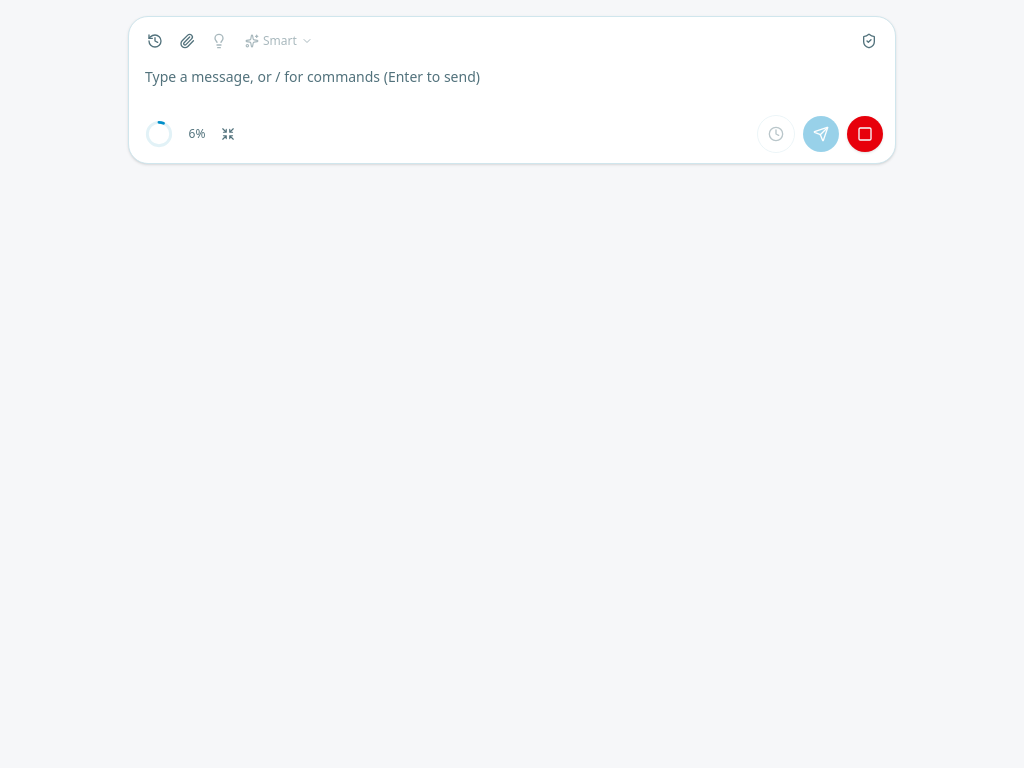
it: chat-level compact control (VCP-D3) › stays clickable while a run is active and surfaces the busy error
Click the button "6%" at (190, 134), box left=141, top=118, right=239, bottom=150
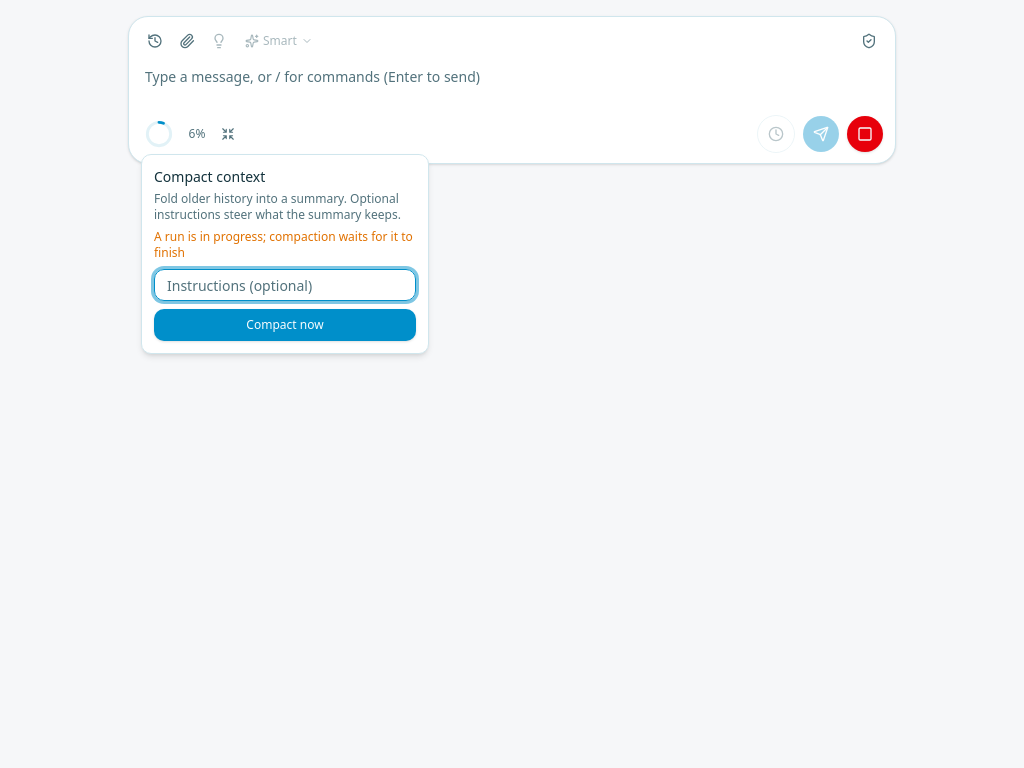
Click the button "Compact now" at (285, 325), box left=154, top=309, right=416, bottom=341
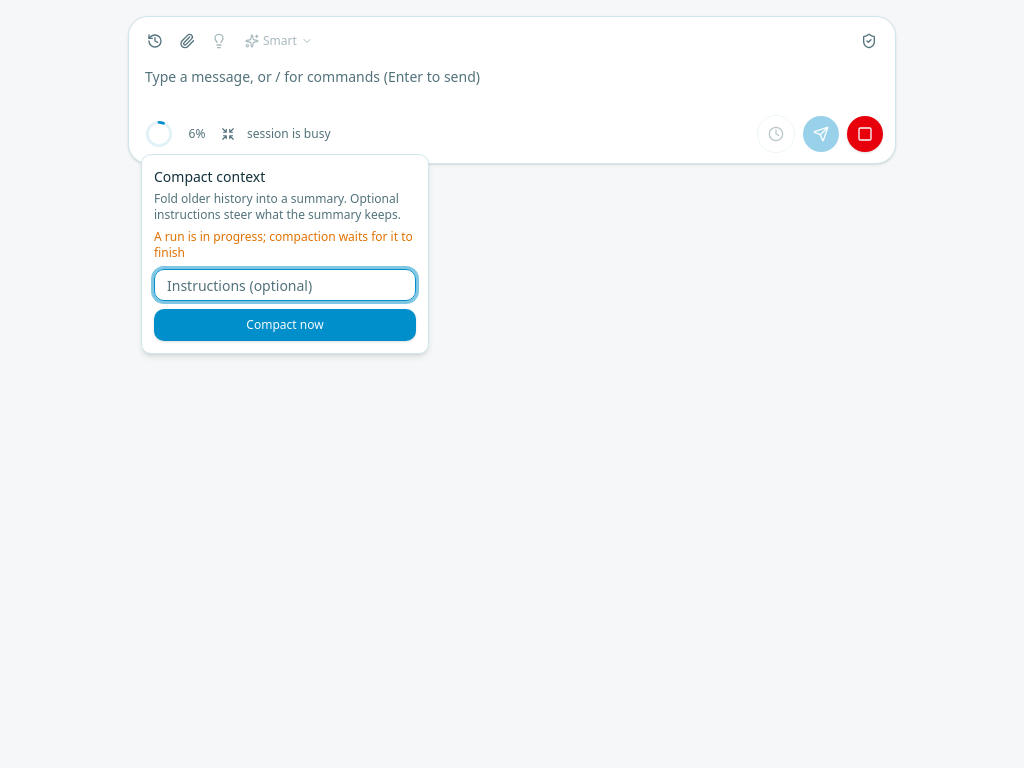
Result: the text "session is busy" is shown at left=247, top=126, right=330, bottom=142
